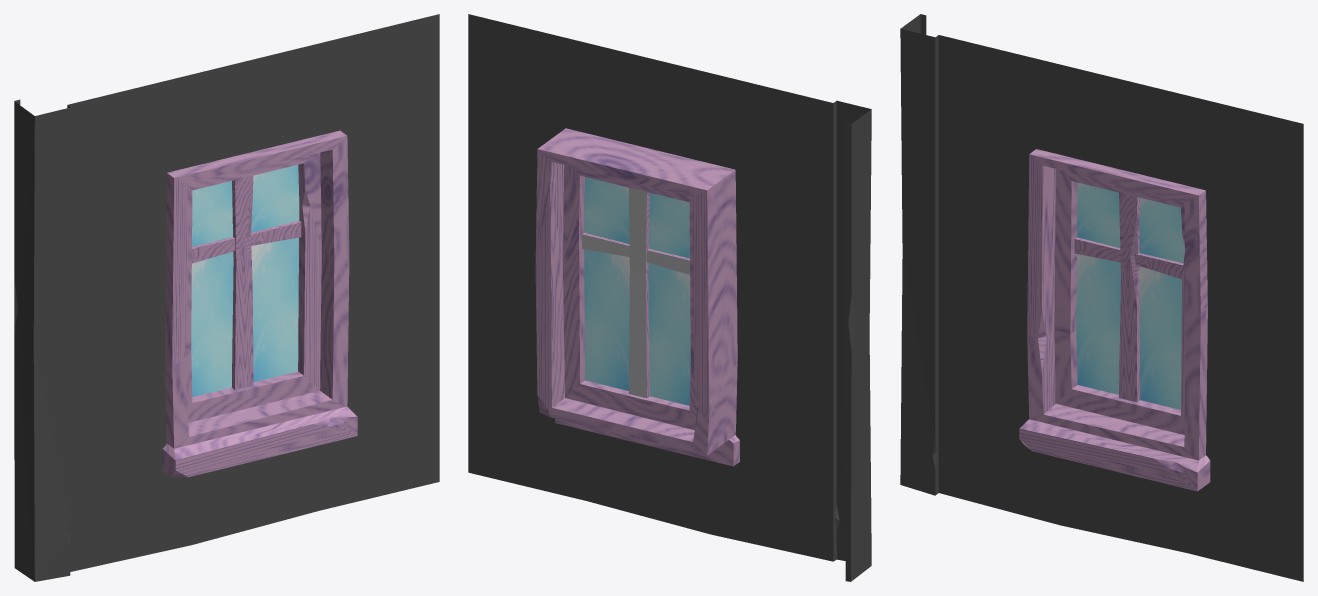
Rendered from House01_Wall_Window_01_Pillar.fbx.
3 views of the same model, side by side, from view 1: azimuth 30°, elevation 25°; view 2: azimuth 150°, elevation 25°; view 3: azimuth 330°, elevation 25° (orthographic). The views are drawn at different scales.
Parts seen in each view (by area): view 1: SM_Bld_House_ExteriorWall_GroundFloor_Window_01.001; view 2: SM_Bld_House_ExteriorWall_GroundFloor_Window_01.001; view 3: SM_Bld_House_ExteriorWall_GroundFloor_Window_01.001.
Part boxes in pixels (box(x1,y1,x2,y2)): SM_Bld_House_ExteriorWall_GroundFloor_Window_01.001: box(14, 14, 439, 581); SM_Bld_House_ExteriorWall_GroundFloor_Window_01.001: box(468, 14, 871, 581); SM_Bld_House_ExteriorWall_GroundFloor_Window_01.001: box(900, 14, 1303, 581).
Bounding box in the file's own units: 274 × 302 × 48.8.
